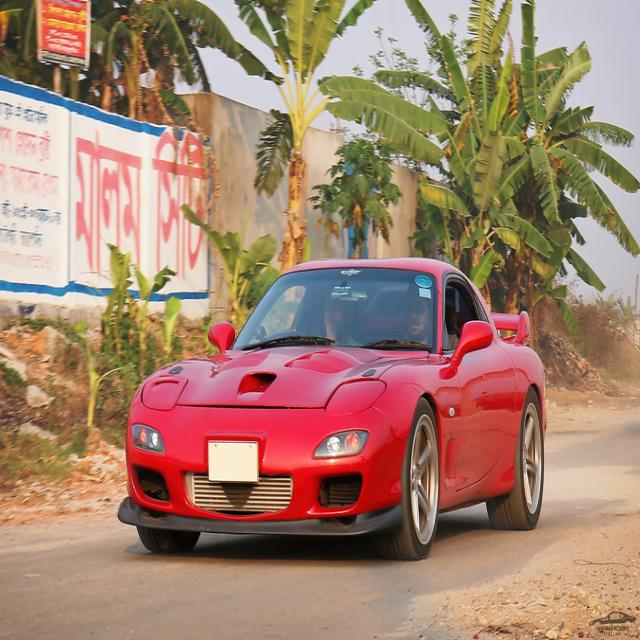red: (95, 237, 568, 571)
